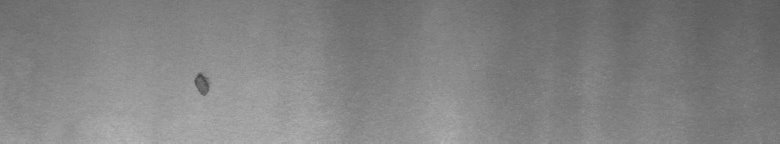fi: (189, 68, 216, 104)
